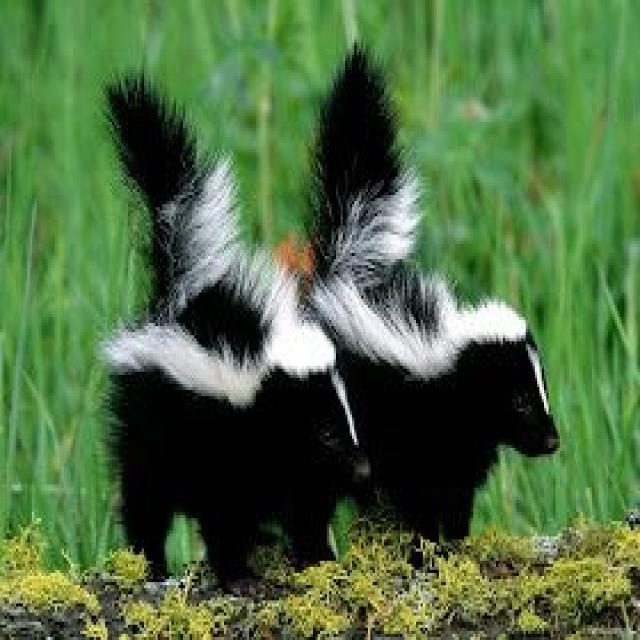Skunk: (73, 66, 374, 601)
